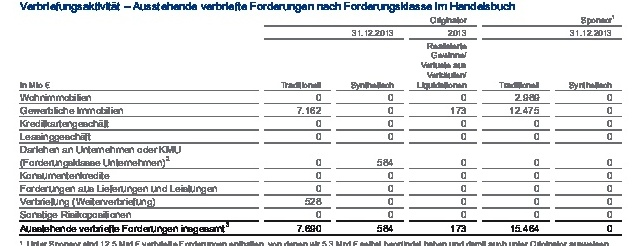table: (0, 0, 644, 246)
